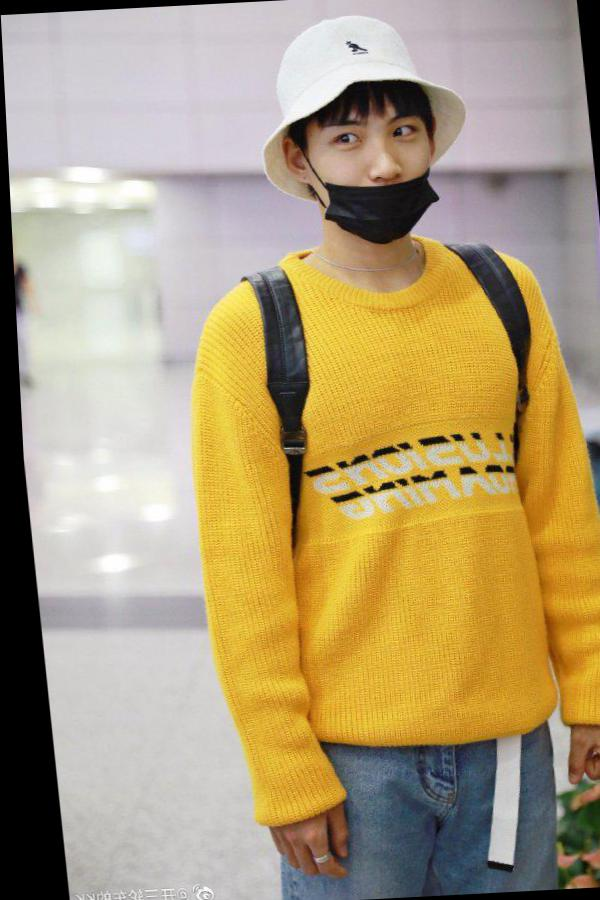WRONG: (304, 103, 441, 249)
